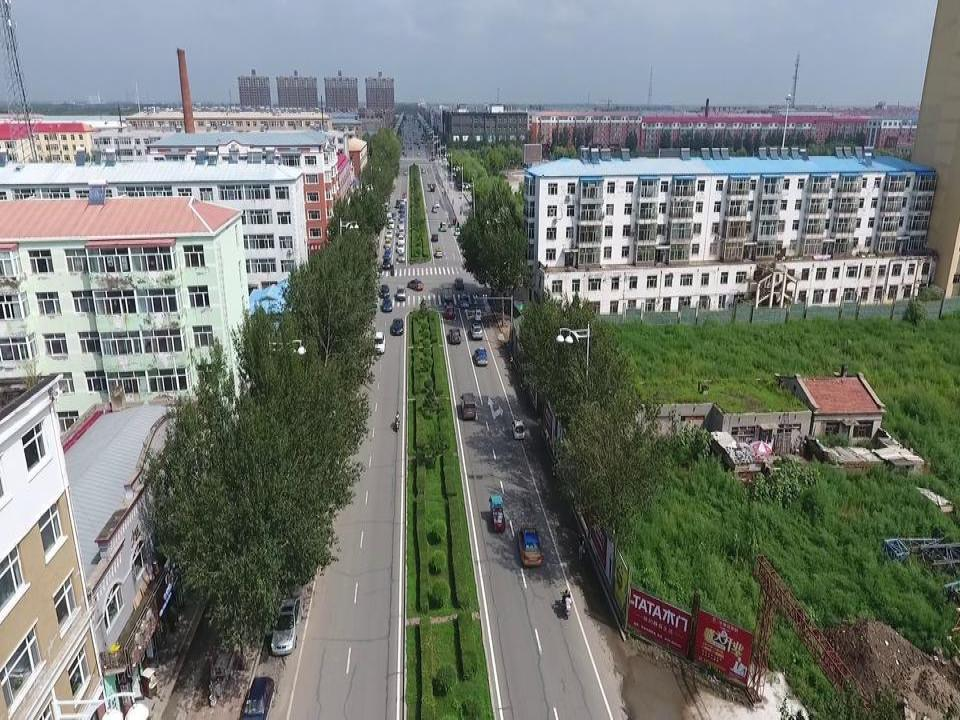car: (271, 597, 304, 656), (241, 676, 274, 720), (517, 525, 545, 567), (511, 417, 525, 439), (372, 331, 385, 352), (474, 348, 489, 365), (469, 322, 484, 338), (381, 296, 394, 311), (406, 278, 421, 290), (392, 317, 402, 335), (448, 326, 459, 342), (378, 283, 388, 297), (453, 275, 463, 289), (380, 257, 391, 268), (444, 303, 453, 316), (459, 294, 467, 307), (397, 251, 406, 261), (397, 241, 406, 251), (398, 220, 408, 229), (383, 249, 392, 259), (382, 237, 391, 247), (430, 231, 439, 240), (474, 307, 482, 317), (397, 236, 407, 244), (440, 220, 447, 231), (398, 216, 406, 225), (385, 228, 393, 237), (387, 217, 394, 227), (386, 211, 393, 221), (399, 211, 406, 220), (401, 191, 408, 200), (436, 247, 442, 257), (435, 198, 442, 206), (399, 227, 405, 236), (432, 204, 438, 212), (396, 197, 400, 208), (399, 205, 406, 211), (401, 199, 408, 205)
truck: (439, 282, 453, 302)
van: (459, 392, 476, 419), (396, 283, 405, 301)
